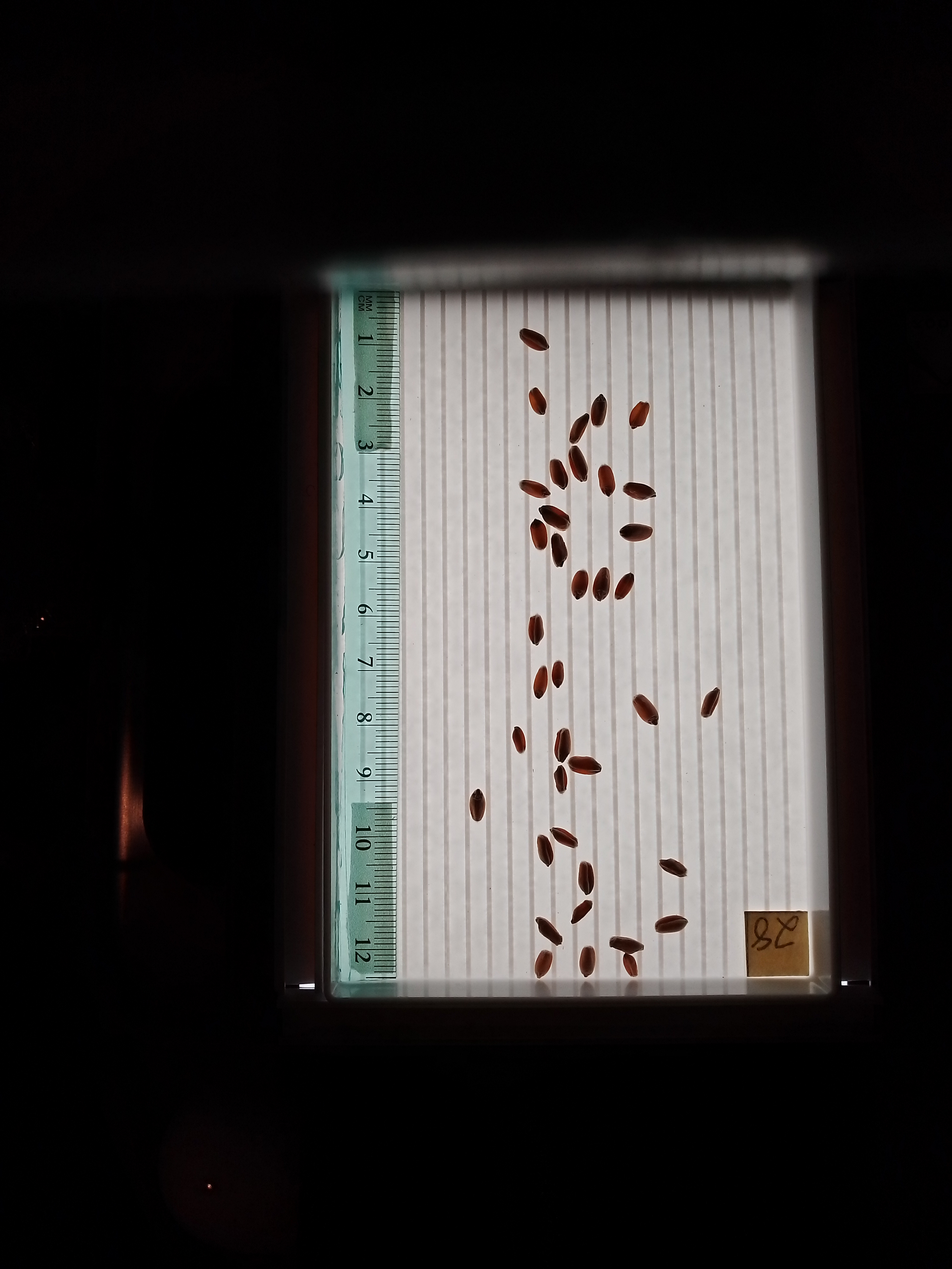seed mask: (633, 695, 658, 725), (540, 506, 569, 531), (568, 446, 588, 482), (520, 328, 549, 352), (537, 917, 562, 944), (623, 481, 655, 501), (569, 755, 601, 775), (611, 936, 643, 955), (569, 414, 589, 443), (621, 524, 653, 542), (578, 862, 595, 895), (655, 915, 686, 933), (521, 479, 550, 498), (701, 688, 720, 717), (551, 827, 577, 848), (593, 568, 610, 600), (579, 946, 596, 977), (629, 402, 649, 428), (555, 729, 571, 761), (550, 459, 567, 489), (531, 520, 548, 550), (537, 835, 554, 865), (551, 535, 567, 566), (615, 574, 634, 600), (598, 466, 615, 495), (529, 388, 547, 415), (591, 396, 607, 426), (469, 791, 485, 821), (660, 859, 686, 877), (572, 570, 588, 599), (535, 951, 552, 978), (572, 901, 592, 923), (528, 616, 543, 644), (534, 667, 548, 697), (512, 727, 526, 752), (554, 766, 567, 792), (623, 954, 638, 976), (552, 663, 564, 686)
